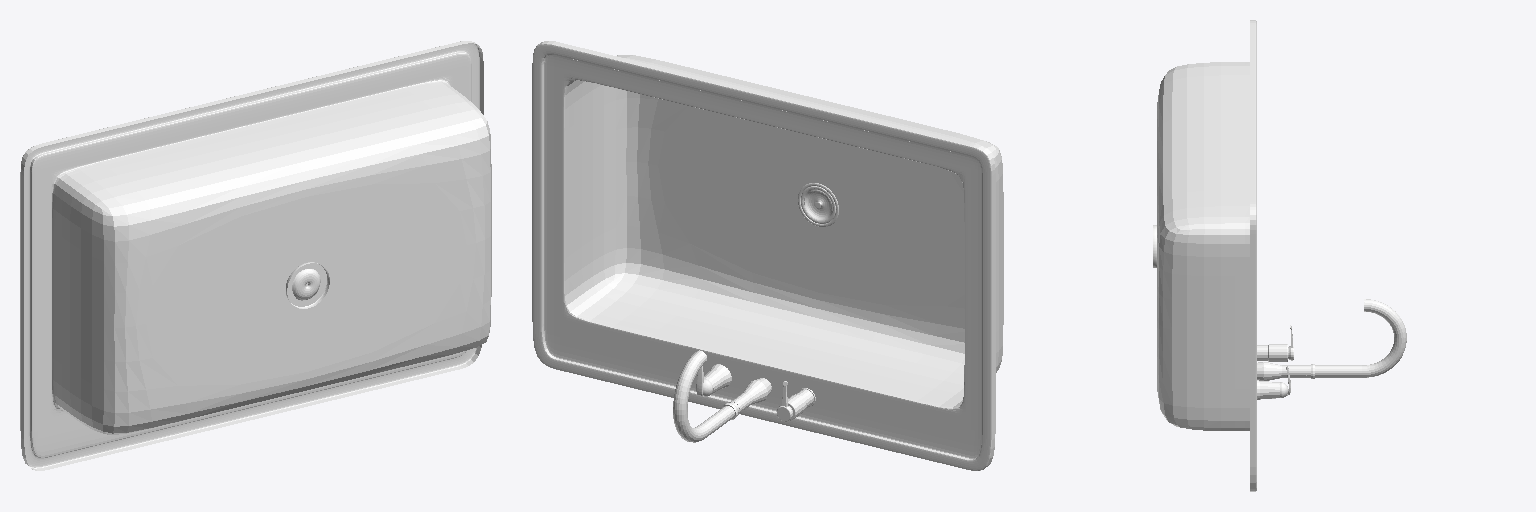
The robot description file, URDF, robot "sink.urdf":
<?xml version="1.0" ?>
<robot name="sink.urdf">
	<link name="baseLink">
		<contact>
			<lateral_friction value="0.5" />
			<rolling_friction value="0.0" />
			<contact_cfm value="0.0" />
			<contact_erp value="1.0" />
		</contact>
		<inertial>
			<origin rpy="0 0 0" xyz="0 0 0" />
				<mass value="100" />
				<inertia ixx="1" ixy="0" ixz="0" iyy="1" iyz="0" izz="1" />
		</inertial>
		<visual>
			<origin rpy="0 0 0" xyz="0 0 0" />
			<geometry>
				<mesh filename="sink.obj" scale="1.5 1.5 1.5" />
			</geometry>
				<material name="metallic">
					<color rgba="1 1 1 1" />
				</material>
		</visual>
		<collision>
			<origin rpy="0 0 0" xyz="0 0 0" />
			<geometry>
				<mesh filename="sink_vhacd.obj" scale="1.5 1.5 1.5" />
			</geometry>
		</collision>
	</link>
</robot>

--- Facts derived from the render (not from the file) ---
3 views of the same robot in one strip: view 1: azimuth 30°, elevation 25°; view 2: azimuth 150°, elevation 25°; view 3: azimuth 270°, elevation 25° (orthographic).
Robot: sink.urdf — 1 links, 0 joints (none); root link baseLink; default pose: every joint at zero.
Visible links, largest first — view 1: baseLink; view 2: baseLink; view 3: baseLink.
Link boxes in pixels (x1,y1,x2,y2): baseLink: (20,41,491,470); baseLink: (532,41,1003,470); baseLink: (1153,20,1406,491).
Bounding box of the posed robot: 1.25 × 0.6755 × 0.84 m (x, y, z).
Meshes: 1 distinct files referenced, 1 mesh visuals loaded (1 OBJ).